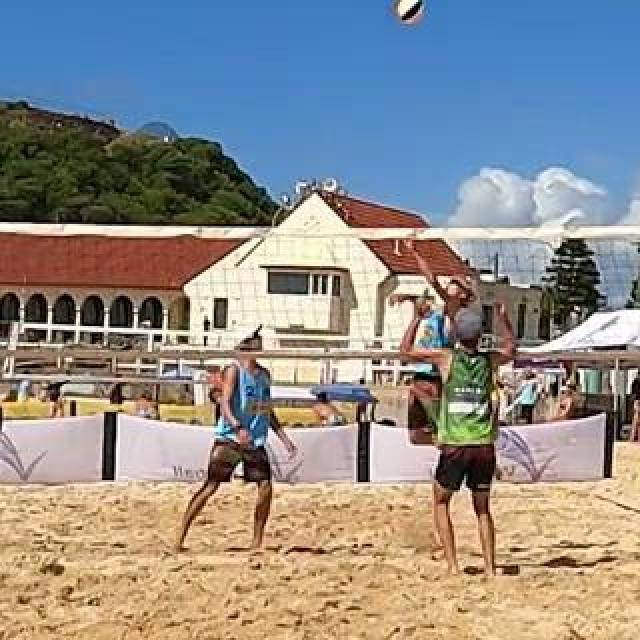volleyball: (394, 0, 422, 24)
